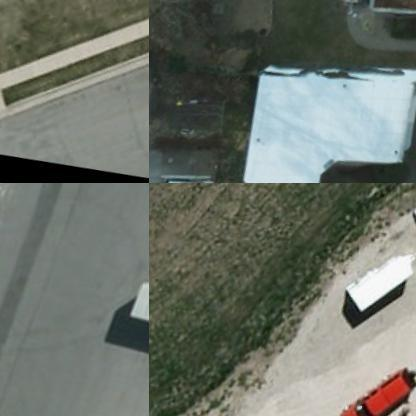camping car: (343, 248, 415, 327)
car: (333, 363, 415, 415), (159, 171, 221, 182)
